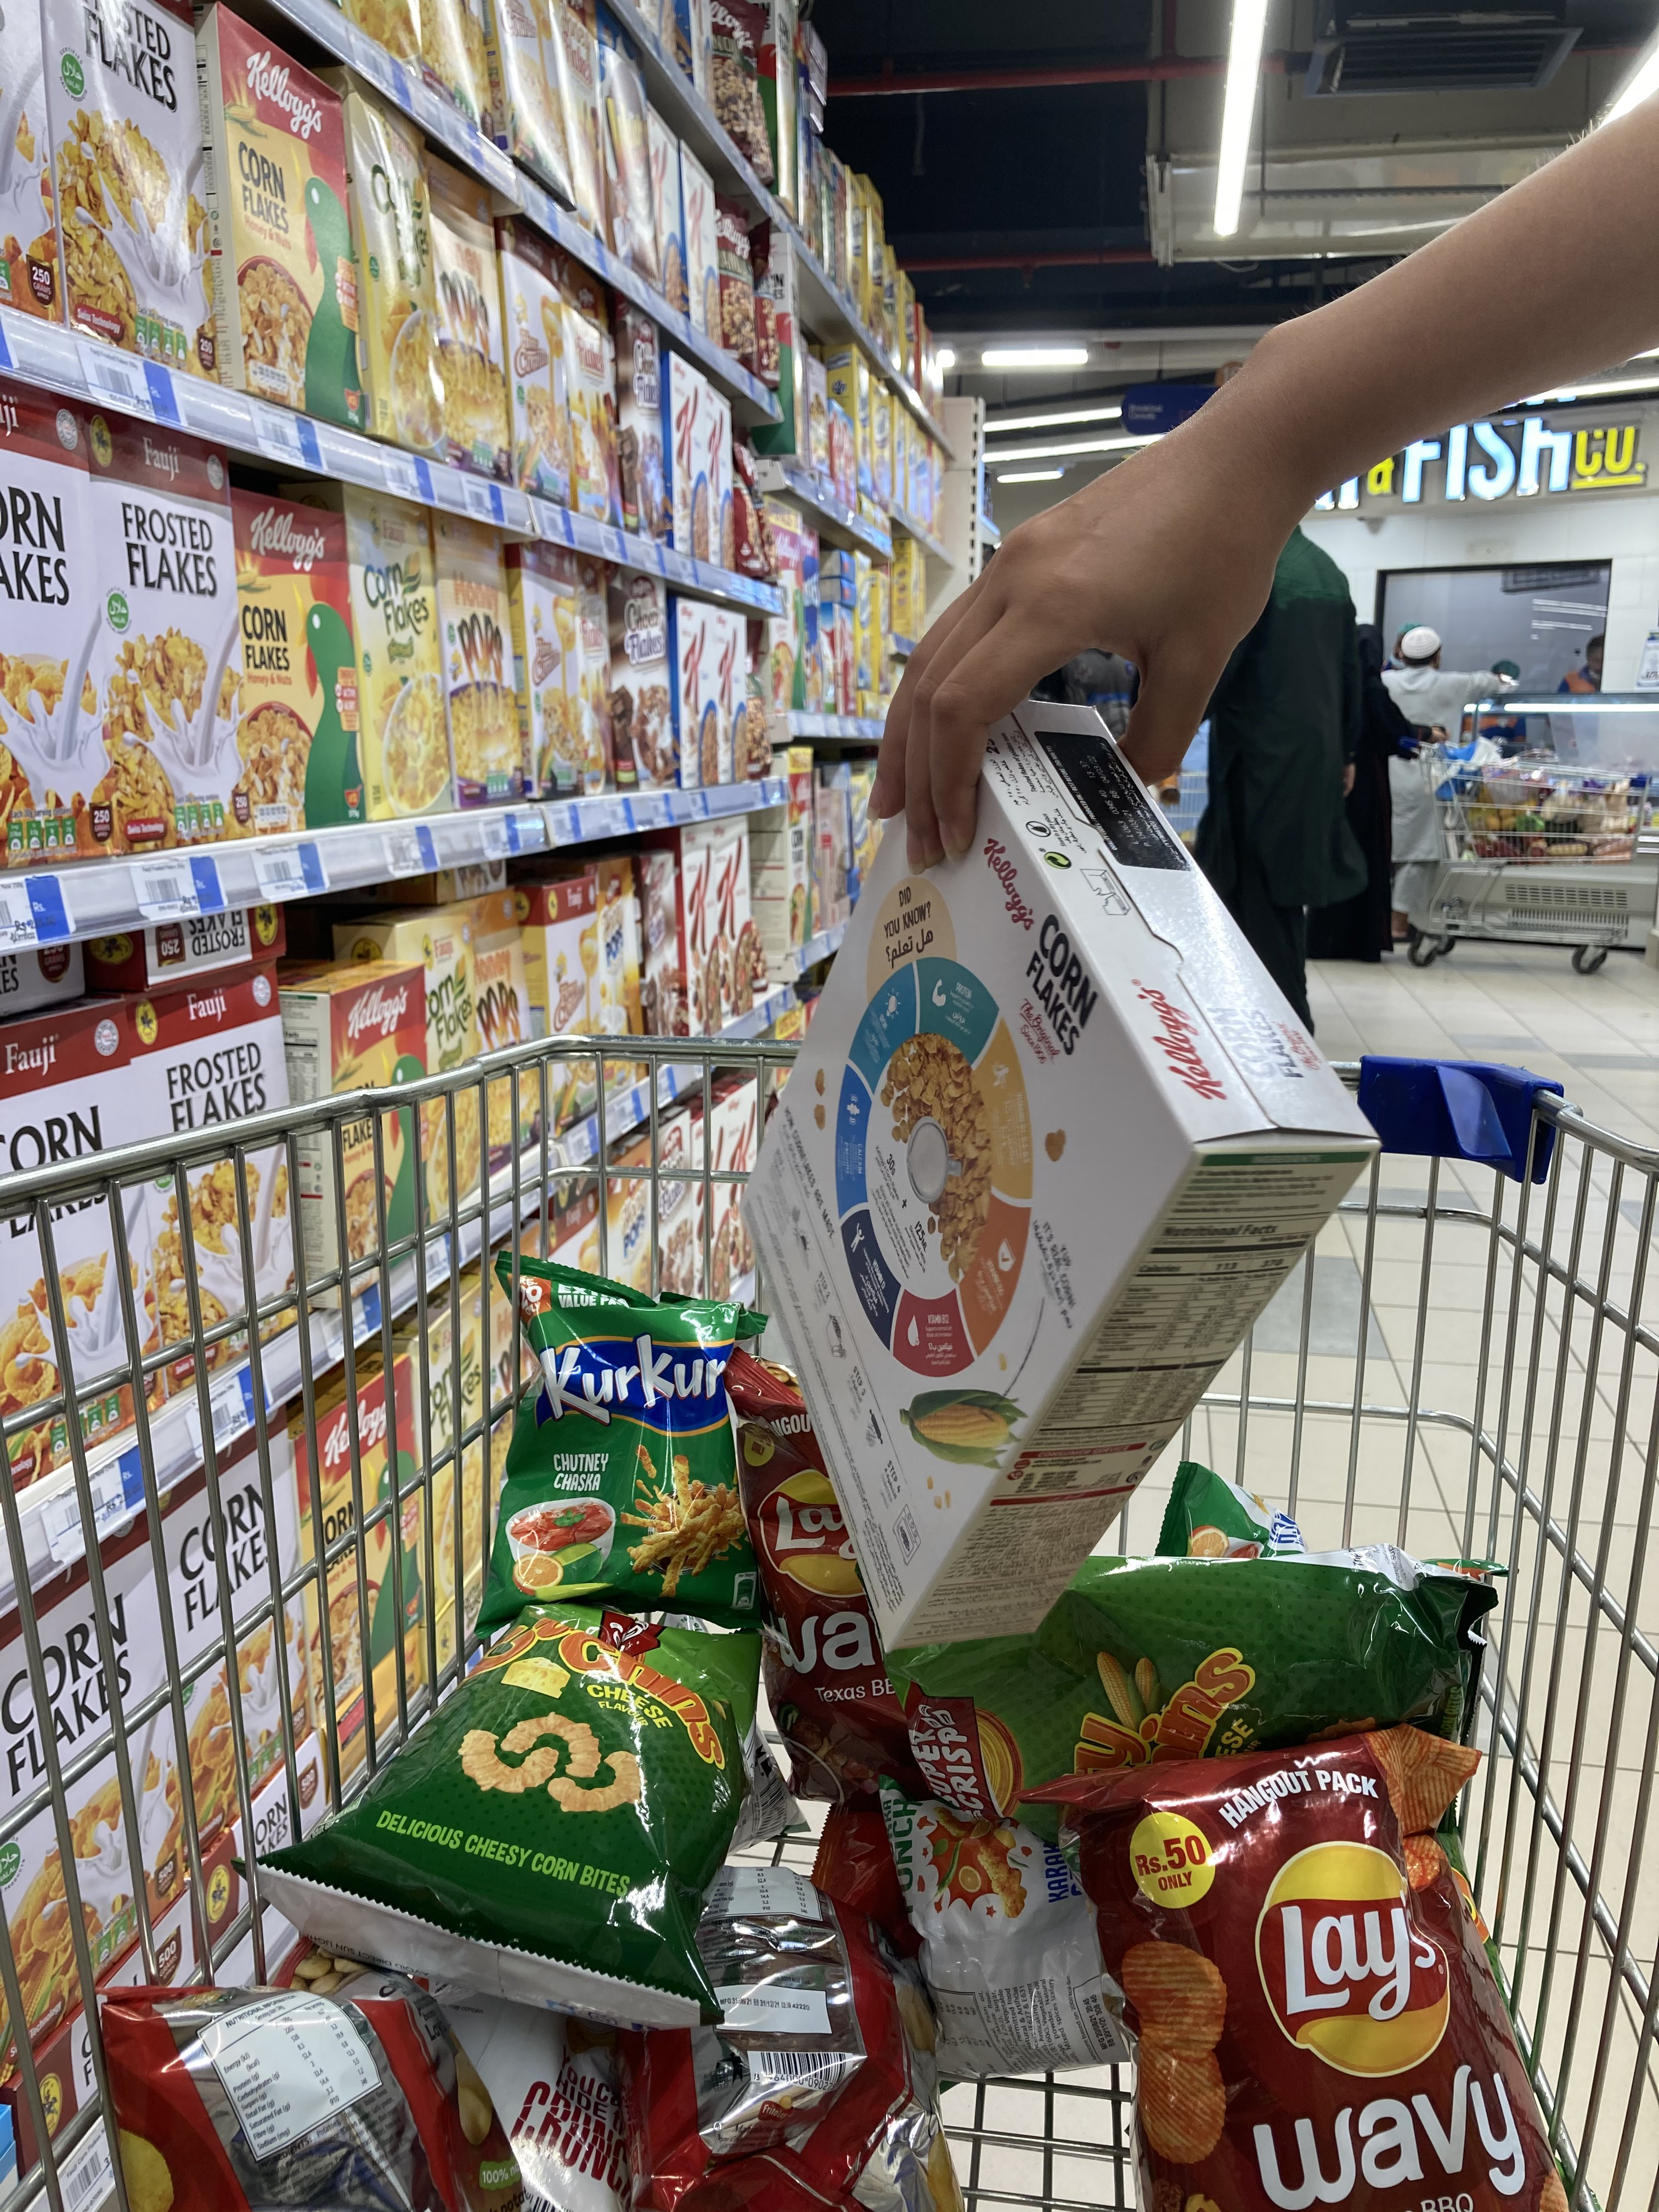Kellogg's Corn Flakes: (725, 745, 1427, 1655)
